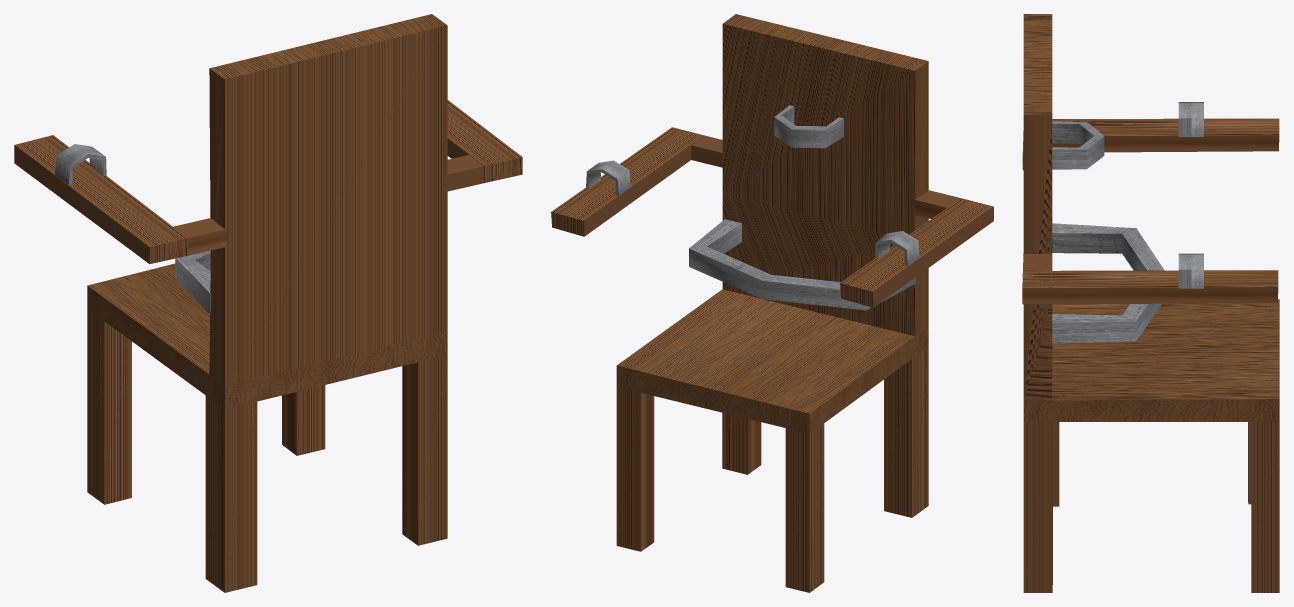
File: restraint chair.FBX
3 views of the same model, side by side, from view 1: azimuth 30°, elevation 25°; view 2: azimuth 150°, elevation 25°; view 3: azimuth 270°, elevation 25° (orthographic). The views are drawn at different scales.
Visible parts, largest first — view 1: Object001, cuffs; view 2: Object001, cuffs; view 3: Object001, cuffs.
Boxes of the visible parts, x1=… form: Object001: x1=14, y1=14, x2=522, y2=592; cuffs: x1=55, y1=144, x2=210, y2=314; Object001: x1=551, y1=14, x2=993, y2=592; cuffs: x1=586, y1=105, x2=919, y2=310; Object001: x1=1022, y1=14, x2=1279, y2=592; cuffs: x1=1052, y1=102, x2=1203, y2=343.
Size of the model in its own units: 33.65 by 44.05 by 21.5.
2 materials, 2 textured.
